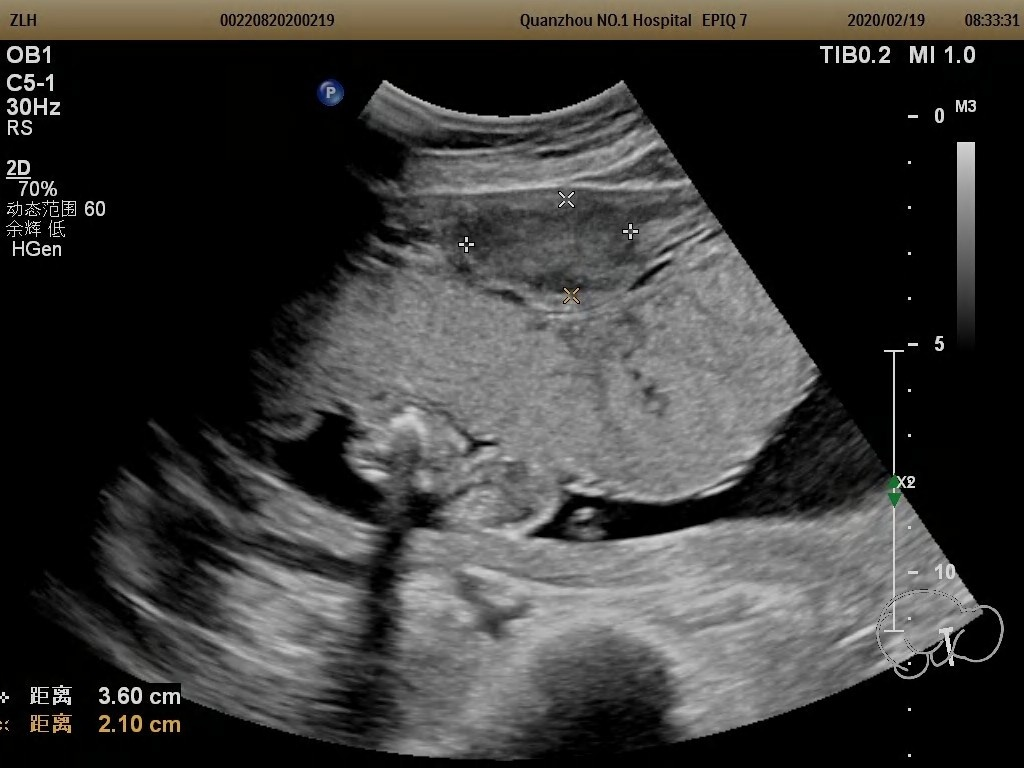肌瘤: (461, 199, 636, 300)
